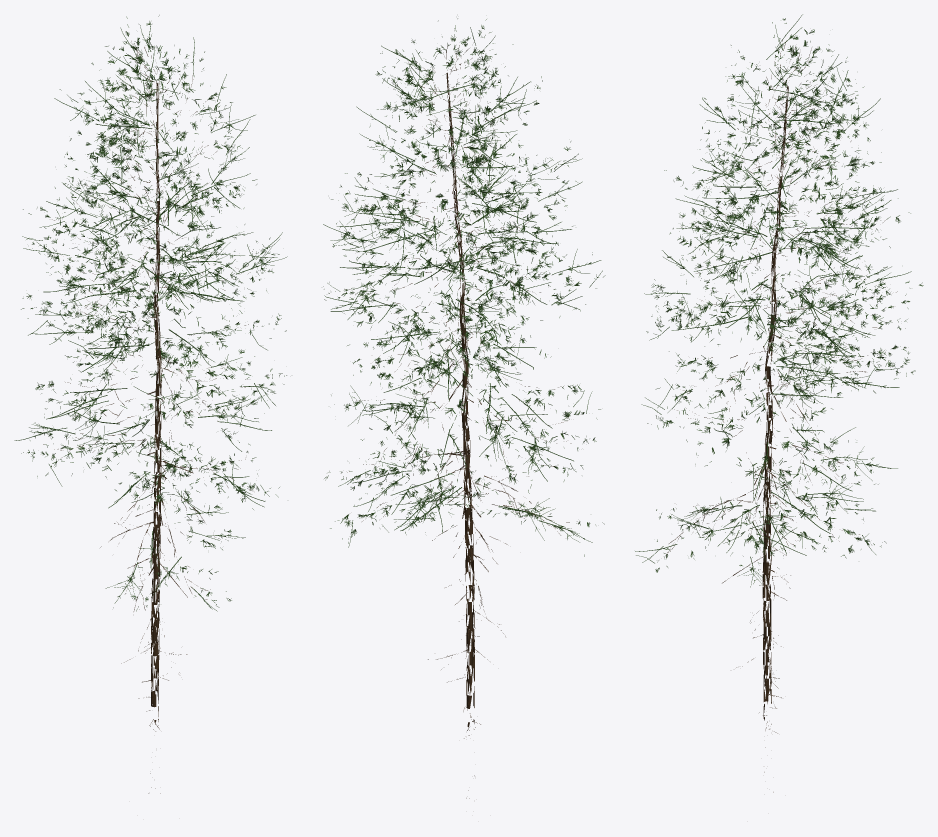
Rendered from conifer_v9_lod1.glb.
3 views of the same model, side by side, from view 1: azimuth 30°, elevation 25°; view 2: azimuth 150°, elevation 25°; view 3: azimuth 270°, elevation 25° (orthographic). The views are drawn at different scales.
Visible parts, largest first — view 1: fir_tree_01_variant_a_lod1; view 2: fir_tree_01_variant_a_lod1; view 3: fir_tree_01_variant_a_lod1.
Part boxes in pixels (x1,y1,x2,y2): fir_tree_01_variant_a_lod1: (14,15,287,793); fir_tree_01_variant_a_lod1: (323,18,605,798); fir_tree_01_variant_a_lod1: (635,14,923,792).
Bounding box in the file's own units: 6.56 × 18.89 × 6.26.
